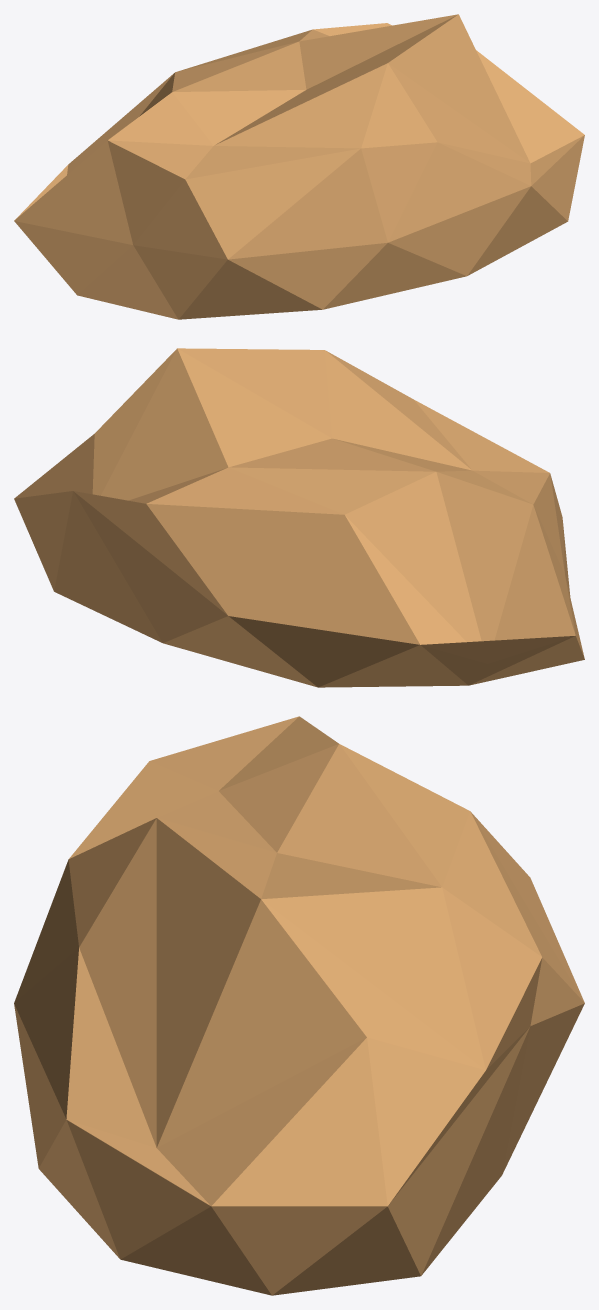
File: rock3.fbx
3 views of the same model, one above another, from view 1: azimuth 30°, elevation 25°; view 2: azimuth 150°, elevation 25°; view 3: azimuth 270°, elevation 25° (orthographic). The views are drawn at different scales.
Parts seen in each view (by area): view 1: Icosphere.002; view 2: Icosphere.002; view 3: Icosphere.002.
Boxes of the visible parts, x1,y1,x2,y2 form: Icosphere.002: [14, 14, 584, 319]; Icosphere.002: [14, 348, 584, 687]; Icosphere.002: [14, 716, 584, 1295].
Size of the model in its own units: 314 by 119 by 187.
